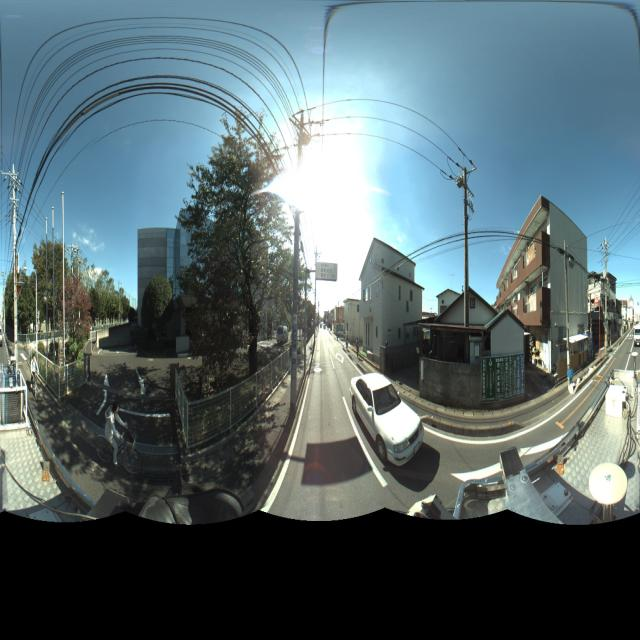b_1: (504, 174, 596, 373), (428, 272, 528, 383), (352, 236, 426, 368), (592, 258, 621, 343), (341, 291, 364, 350)
b_2: (130, 200, 279, 368)
